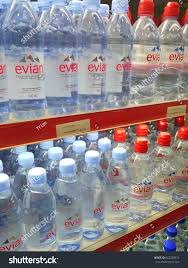Evian: (7, 1, 46, 115), (45, 3, 80, 111), (135, 1, 160, 102)
